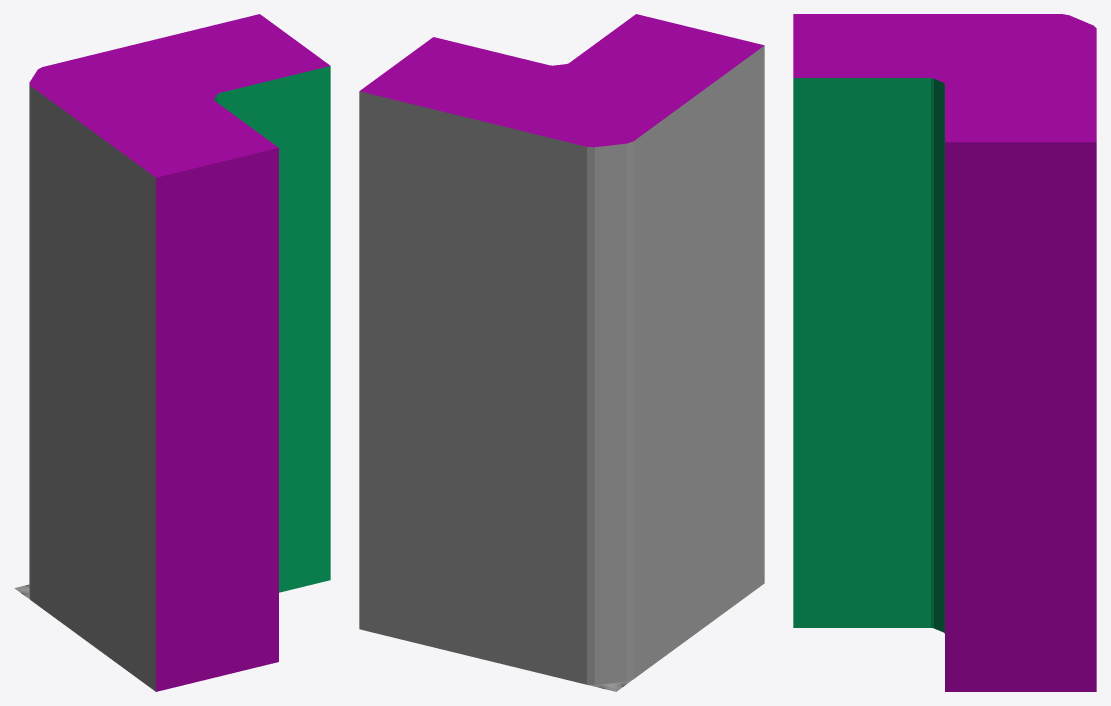
The model's file is Wall_GW_Corner_Inside_Top.fbx.
The picture shows the model from 3 angles, left to right: view 1: azimuth 30°, elevation 25°; view 2: azimuth 150°, elevation 25°; view 3: azimuth 270°, elevation 25°; orthographic projection. The views are drawn at different scales.
Parts seen in each view (by area): view 1: Wall_GW_Corner_Inside_Top, Wall_GW_Corner_Inside; view 2: Wall_GW_Corner_Inside_Top, Wall_GW_Corner_Inside; view 3: Wall_GW_Corner_Inside_Top, Wall_GW_Corner_Inside.
Boxes of the visible parts, x1,y1,x2,y2 form: Wall_GW_Corner_Inside_Top: [29, 14, 330, 434]; Wall_GW_Corner_Inside: [29, 323, 330, 691]; Wall_GW_Corner_Inside_Top: [359, 14, 764, 416]; Wall_GW_Corner_Inside: [359, 314, 764, 685]; Wall_GW_Corner_Inside_Top: [793, 14, 1096, 416]; Wall_GW_Corner_Inside: [793, 353, 1096, 691].
Size of the model in its own units: 100 by 200 by 100.
